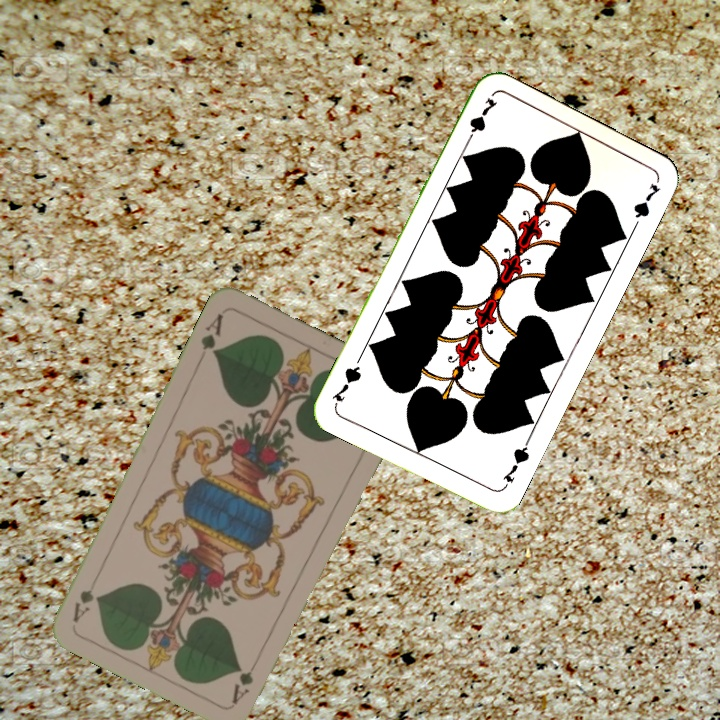G7: (461, 93, 500, 149), (498, 436, 533, 492)
GA: (228, 651, 264, 706), (195, 309, 226, 364)
